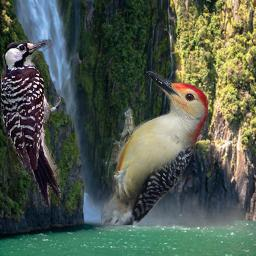Woodpecker: (101, 71, 208, 225), (1, 39, 61, 207)
